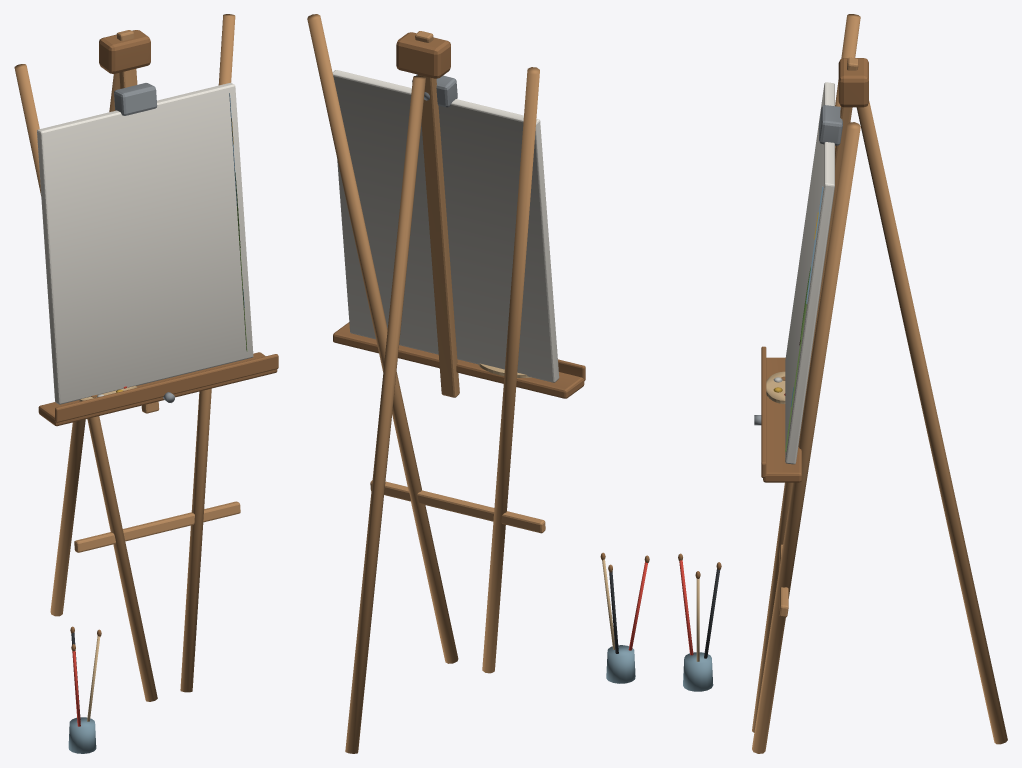
Rendered from easel.glb.
The picture shows the model from 3 angles, left to right: view 1: azimuth 30°, elevation 25°; view 2: azimuth 150°, elevation 25°; view 3: azimuth 270°, elevation 25°; orthographic projection. The views are drawn at different scales.
Visible parts, largest first — view 1: body; view 2: body; view 3: body, painting.
Part boxes in pixels (x1,y1,x2,y2): body: (14,14,278,753); body: (307,14,649,753); body: (678,14,1007,753); painting: (785,186,823,451).
Bounding box in the file's own units: 0.7036 × 1.75 × 0.7621.
